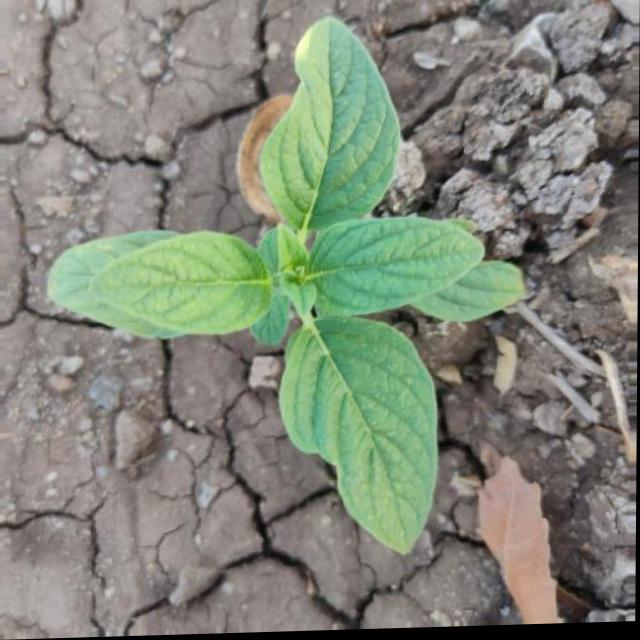crop: (44, 14, 555, 566)
